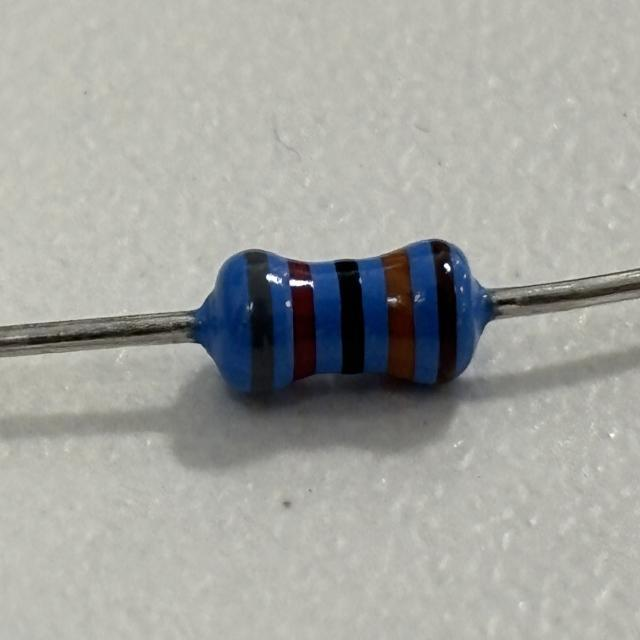resistor: (218, 234, 468, 403)
